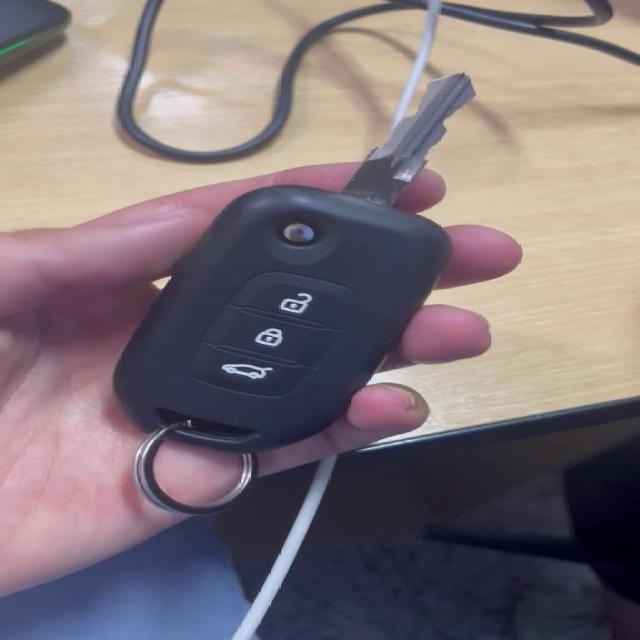llave-auto: (109, 82, 480, 534)
